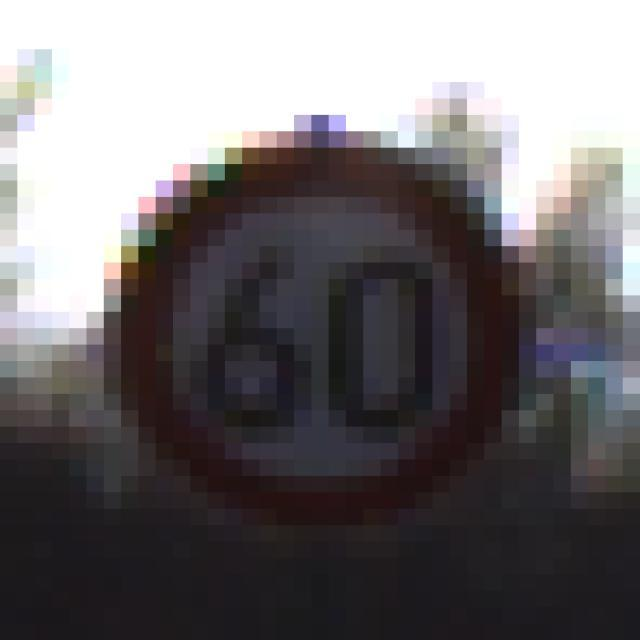Ograniczenie predkosci do 60: (28, 94, 640, 556)
